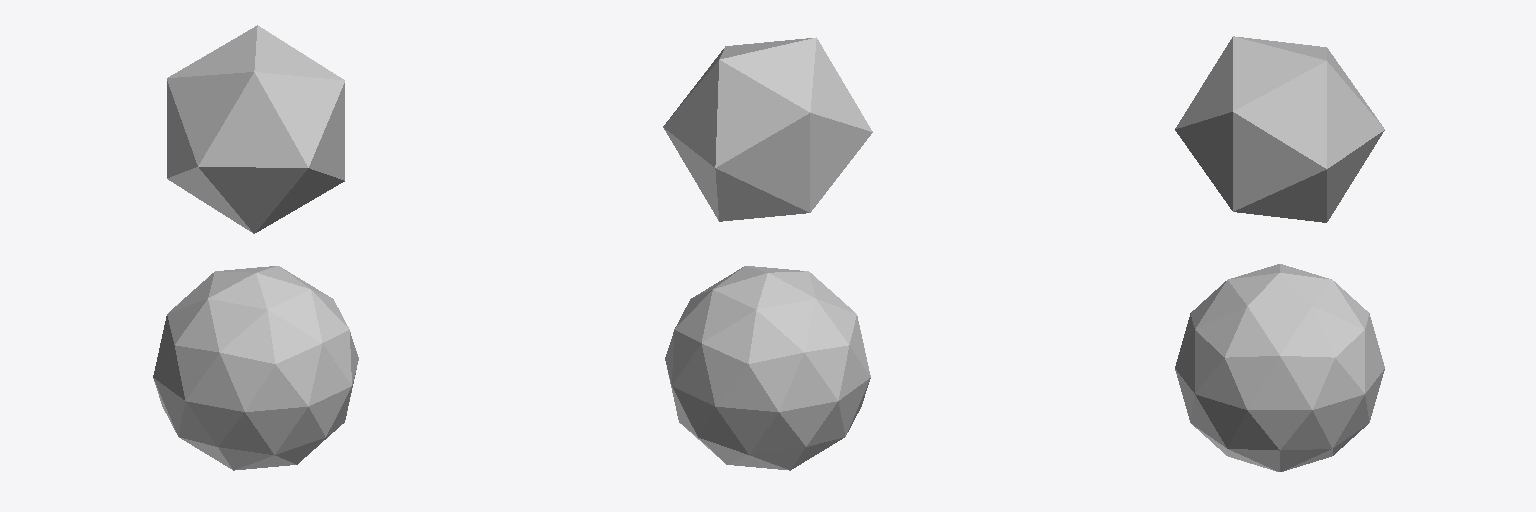
Rendered from ico.obj.
The picture shows the model from 3 angles: view 1: azimuth 30°, elevation 25°; view 2: azimuth 150°, elevation 25°; view 3: azimuth 270°, elevation 25°; orthographic projection.
Visible parts, largest first — view 1: Sphere; view 2: Sphere; view 3: Sphere.
Part boxes in pixels (x1,y1,x2,y2): Sphere: (153,25,358,470); Sphere: (663,37,872,470); Sphere: (1175,36,1384,471).
Bounding box in the file's own units: 1.9 × 4.35 × 2.